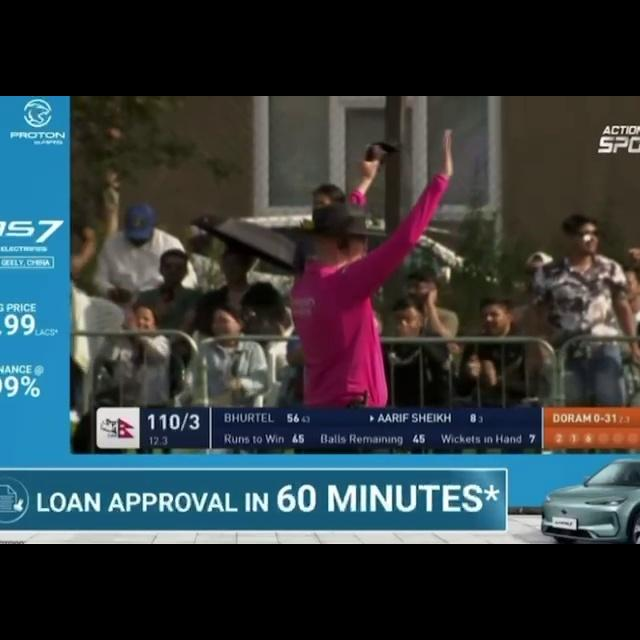umpire: (291, 120, 462, 409)
